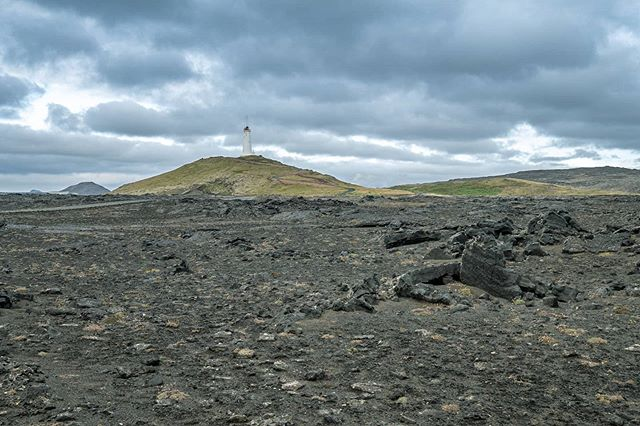dirt: (1, 201, 640, 426)
mountain: (124, 142, 374, 201)
sky: (1, 1, 640, 175)
